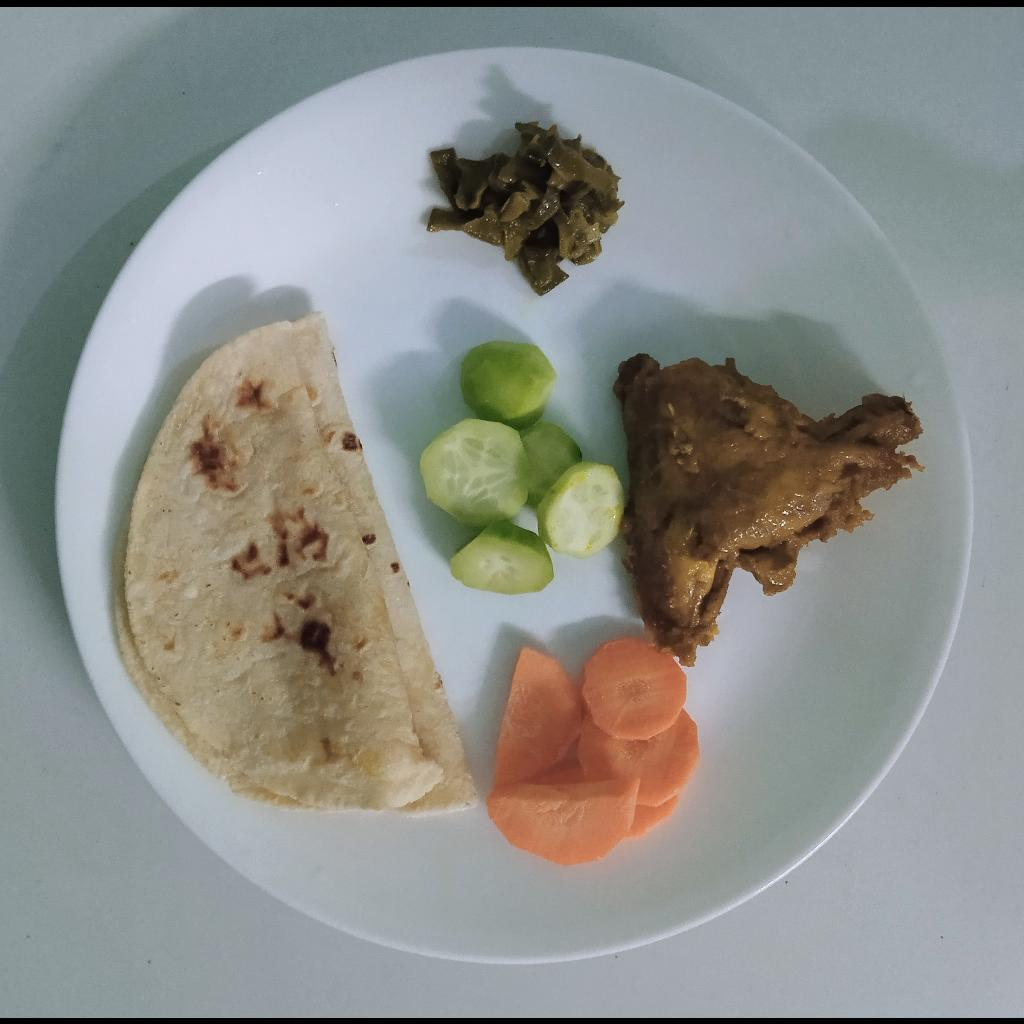carrot: (485, 636, 698, 866)
chicken: (613, 350, 925, 667)
cucumber: (420, 341, 625, 594)
ruti: (115, 311, 484, 814)
shim: (426, 120, 626, 296)
